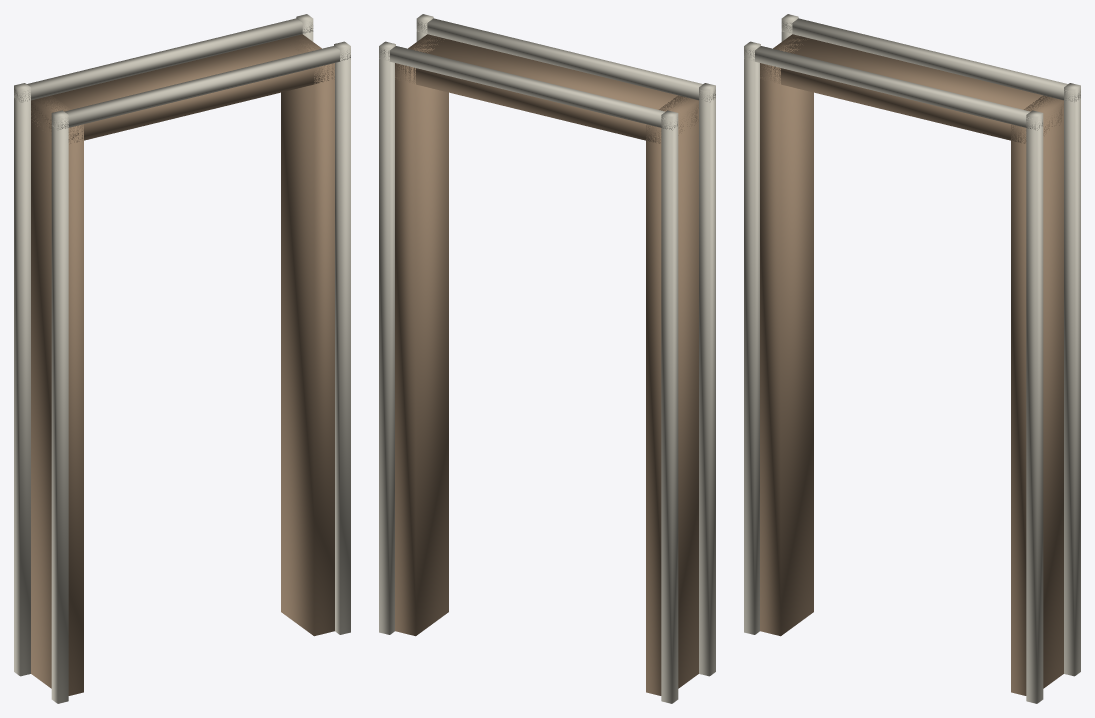
File: doorway_painted_trim_w96_h220_d24.glb
3 views of the same model, side by side, from view 1: azimuth 30°, elevation 25°; view 2: azimuth 150°, elevation 25°; view 3: azimuth 330°, elevation 25° (orthographic).
Visible parts, largest first — view 1: world; view 2: world; view 3: world.
Boxes of the visible parts, box(x1,y1,x2,y2) form: world: box(14, 14, 350, 703); world: box(379, 14, 715, 703); world: box(744, 14, 1080, 703).
Bounding box in the file's own units: 1.22 × 2.34 × 0.3165.
